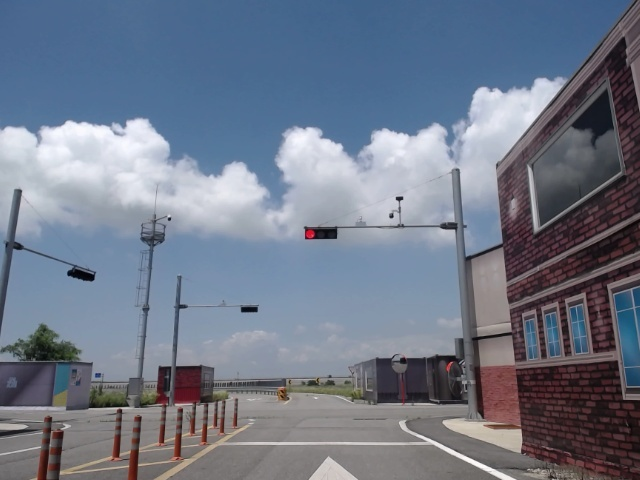red_3: (301, 226, 337, 242)
